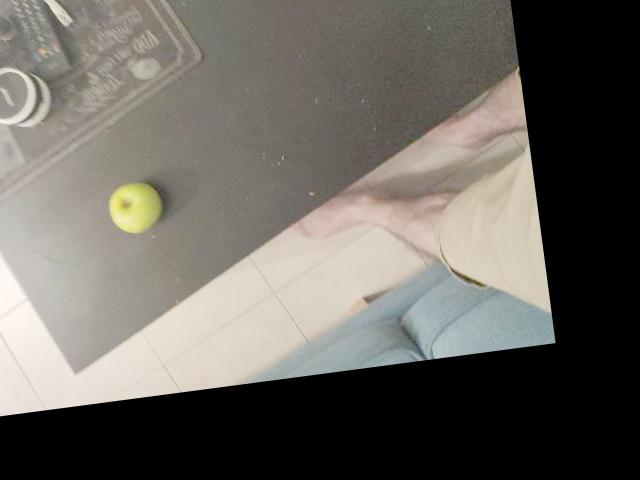apple: (97, 146, 207, 238)
